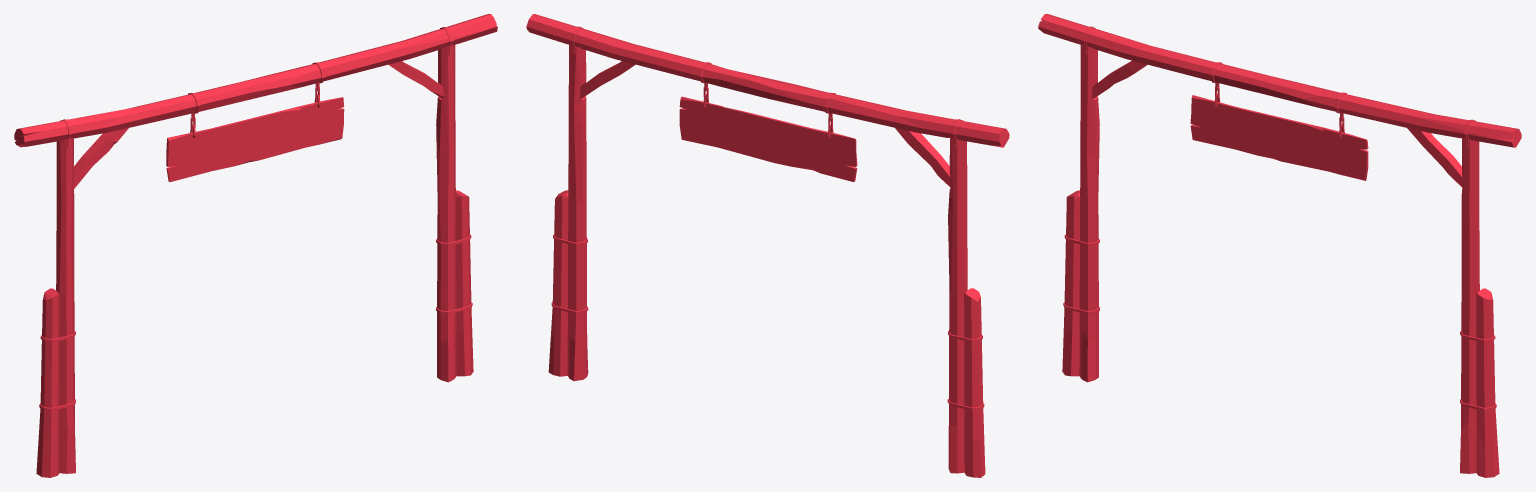
Rendered from SM_Sign_Ranch.fbx.
The picture shows the model from 3 angles, left to right: view 1: azimuth 30°, elevation 25°; view 2: azimuth 150°, elevation 25°; view 3: azimuth 330°, elevation 25°; orthographic projection.
Visible parts, largest first — view 1: sign-ranch-frame-empty, sign-ranch-sign-empty; view 2: sign-ranch-frame-empty, sign-ranch-sign-empty; view 3: sign-ranch-frame-empty, sign-ranch-sign-empty.
Boxes of the visible parts, x1,y1,x2,y2 form: sign-ranch-frame-empty: [14, 14, 497, 477]; sign-ranch-sign-empty: [166, 97, 344, 181]; sign-ranch-frame-empty: [526, 14, 1009, 477]; sign-ranch-sign-empty: [679, 96, 857, 181]; sign-ranch-frame-empty: [1038, 14, 1521, 477]; sign-ranch-sign-empty: [1190, 95, 1368, 180].
Size of the model in its own units: 6.71 by 4.74 by 0.2953.
